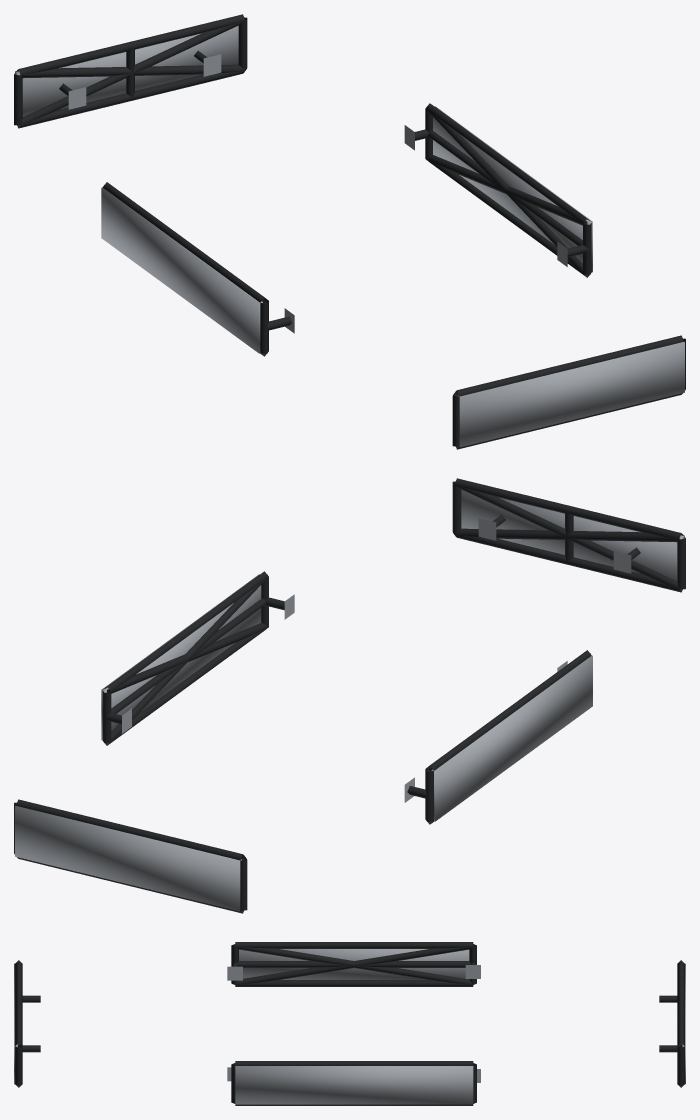
Rendered from mizuchi_norte_protecao.glb.
The picture shows the model from 3 angles, top to bottom: view 1: azimuth 30°, elevation 25°; view 2: azimuth 150°, elevation 25°; view 3: azimuth 270°, elevation 25°; orthographic projection. The views are drawn at different scales.
Visible parts, largest first — view 1: Protection_front_Level3_Details, Protection_left_Level3_Details, Protection_rear_Level1_Details, Protection_rear_Level3_Details, Protection_right_Level1_Details, Protection_rear_Level2_Details, Protection_right_Level2_Details, Protection_right_Level3_Details, Protection_front_Level1_Details, Protection_left_Level1_Details; view 2: Protection_rear_Level3_Details, Protection_left_Level3_Details, Protection_front_Level1_Details, Protection_front_Level3_Details, Protection_right_Level1_Details, Protection_front_Level2_Details, Protection_right_Level2_Details, Protection_right_Level3_Details, Protection_rear_Level1_Details, Protection_left_Level1_Details; view 3: Protection_right_Level3_Details, Protection_left_Level2_Details, Protection_left_Level1_Details, Protection_left_Level3_Details, Protection_right_Level1_Details, Protection_rear_Level1_Details, Protection_front_Level1_Details.
Part boxes in pixels (x1=…): Protection_front_Level3_Details: x1=458, y1=342, x2=684, y2=447; Protection_left_Level3_Details: x1=101, y1=187, x2=262, y2=353; Protection_rear_Level1_Details: x1=14, y1=14, x2=247, y2=128; Protection_rear_Level3_Details: x1=15, y1=25, x2=238, y2=116; Protection_right_Level1_Details: x1=404, y1=103, x2=591, y2=277; Protection_rear_Level2_Details: x1=16, y1=21, x2=244, y2=127; Protection_right_Level2_Details: x1=426, y1=109, x2=591, y2=277; Protection_right_Level3_Details: x1=433, y1=106, x2=592, y2=272; Protection_front_Level1_Details: x1=452, y1=335, x2=685, y2=449; Protection_left_Level1_Details: x1=102, y1=182, x2=294, y2=356; Protection_rear_Level3_Details: x1=15, y1=806, x2=241, y2=911; Protection_left_Level3_Details: x1=431, y1=655, x2=592, y2=821; Protection_front_Level1_Details: x1=452, y1=478, x2=685, y2=592; Protection_front_Level3_Details: x1=461, y1=489, x2=684, y2=580; Protection_right_Level1_Details: x1=102, y1=571, x2=294, y2=745; Protection_front_Level2_Details: x1=455, y1=485, x2=683, y2=591; Protection_right_Level2_Details: x1=103, y1=577, x2=268, y2=745; Protection_right_Level3_Details: x1=101, y1=574, x2=261, y2=740; Protection_rear_Level1_Details: x1=14, y1=799, x2=247, y2=913; Protection_left_Level1_Details: x1=404, y1=650, x2=591, y2=824; Protection_right_Level3_Details: x1=235, y1=1066, x2=473, y2=1104; Protection_left_Level2_Details: x1=234, y1=944, x2=473, y2=984; Protection_left_Level1_Details: x1=227, y1=942, x2=480, y2=986; Protection_left_Level3_Details: x1=239, y1=949, x2=469, y2=979; Protection_right_Level1_Details: x1=227, y1=1061, x2=480, y2=1105; Protection_rear_Level1_Details: x1=659, y1=960, x2=684, y2=1087; Protection_front_Level1_Details: x1=15, y1=960, x2=40, y2=1087.
Size of the model in its own units: 2.08 by 0.354 by 4.8.
Materials: 1 (1 with a texture image).
